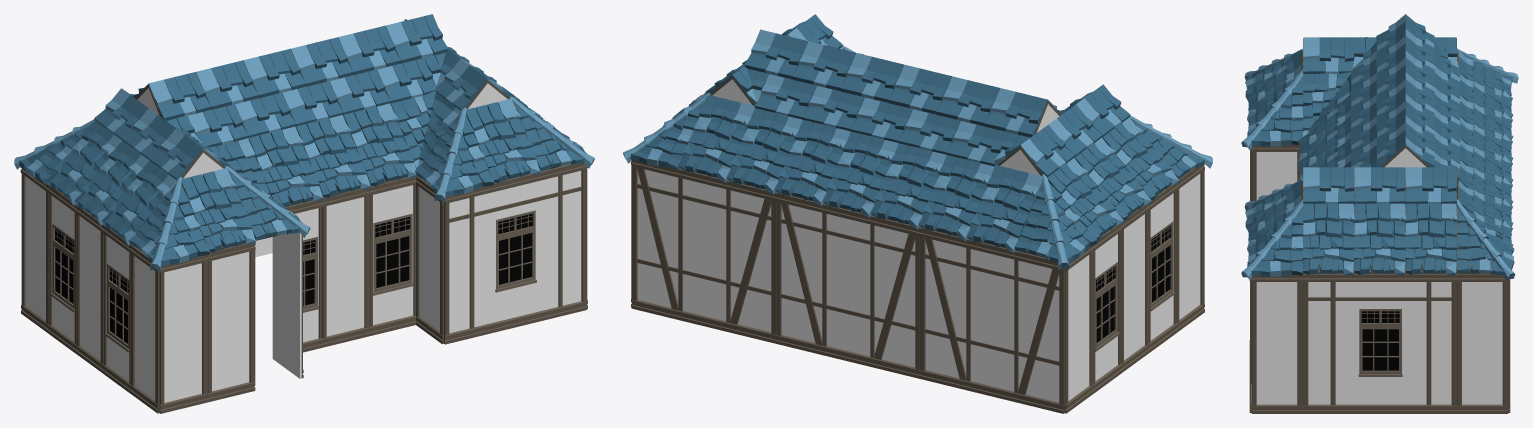
Rendered from house_09_parts.fbx.
3 renders of one model, left to right at view 1: azimuth 30°, elevation 25°; view 2: azimuth 150°, elevation 25°; view 3: azimuth 270°, elevation 25°, orthographic. The views are drawn at different scales.
Parts seen in each view (by area): view 1: WINDOW_03_2, WALL_03_4, WALL_03_6, WALL_03_3, WINDOW_04_4, WALL_03_7, WALL_03_9, WALL_03_5, WINDOW_04_6, WALL_03_8, WALL_03_10, WINDOW_04_5 (+32 smaller); view 2: WALL_02_4, WALL_02_2, WALL_02_3, WALL_03_9, WALL_03_8, WALL_03_7, WINDOW_04_5, WINDOW_04_6, ROOF_base_20, ROOF_base_14, ROOF_corner_out_6, ROOF_base_15 (+26 smaller); view 3: WINDOW_03_3, WALL_03_12, WALL_03_11, ROOF_base_11, ROOF_base_12, ROOF_base_13, ROOF_corner_out_5, ROOF_corner_out_7, ROOF_corner_out_3, WALL_03_5, ROOF_inner_corner_3, ROOF_base_small_15 (+45 smaller).
Boxes of the visible parts, x1=… form: WINDOW_03_2: x1=444, y1=163, x2=587, y2=344; WALL_03_4: x1=159, y1=255, x2=207, y2=413; WALL_03_6: x1=322, y1=188, x2=370, y2=347; WALL_03_3: x1=207, y1=243, x2=255, y2=402; WINDOW_04_4: x1=369, y1=177, x2=416, y2=335; WALL_03_7: x1=130, y1=244, x2=159, y2=413; WALL_03_9: x1=20, y1=167, x2=49, y2=332; WALL_03_5: x1=272, y1=232, x2=303, y2=378; WINDOW_04_6: x1=48, y1=184, x2=76, y2=353; WALL_03_8: x1=75, y1=204, x2=103, y2=373; WALL_03_10: x1=416, y1=176, x2=443, y2=344; WINDOW_04_5: x1=102, y1=224, x2=131, y2=393; WALL_02_4: x1=919, y1=227, x2=1064, y2=413; WALL_02_2: x1=631, y1=160, x2=776, y2=343; WALL_02_3: x1=775, y1=192, x2=920, y2=378; WALL_03_9: x1=1064, y1=245, x2=1094, y2=413; WALL_03_8: x1=1121, y1=204, x2=1149, y2=372; WALL_03_7: x1=1176, y1=164, x2=1204, y2=332; WINDOW_04_5: x1=1148, y1=184, x2=1177, y2=352; WINDOW_04_6: x1=1093, y1=225, x2=1121, y2=392; ROOF_base_20: x1=967, y1=165, x2=1042, y2=253; ROOF_base_14: x1=679, y1=95, x2=754, y2=182; ROOF_corner_out_6: x1=1015, y1=174, x2=1097, y2=269; ROOF_base_15: x1=727, y1=108, x2=802, y2=194; WINDOW_03_3: x1=1303, y1=273, x2=1456, y2=413; WALL_03_12: x1=1457, y1=273, x2=1508, y2=413; WALL_03_11: x1=1251, y1=274, x2=1302, y2=413; ROOF_base_11: x1=1302, y1=202, x2=1354, y2=276; ROOF_base_12: x1=1354, y1=203, x2=1405, y2=276; ROOF_base_13: x1=1405, y1=203, x2=1456, y2=276; ROOF_corner_out_5: x1=1241, y1=199, x2=1303, y2=279; ROOF_corner_out_7: x1=1456, y1=199, x2=1515, y2=281; ROOF_corner_out_3: x1=1241, y1=69, x2=1303, y2=149; WALL_03_5: x1=1251, y1=144, x2=1299, y2=201; ROOF_inner_corner_3: x1=1302, y1=72, x2=1351, y2=136; ROOF_base_small_15: x1=1354, y1=167, x2=1405, y2=205.
Size of the model in its own units: 941 by 509 by 541.
